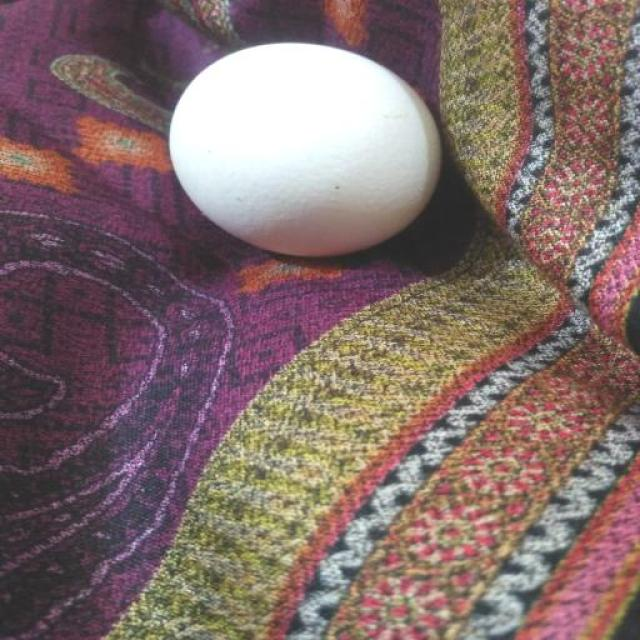telur: (168, 40, 439, 258)
